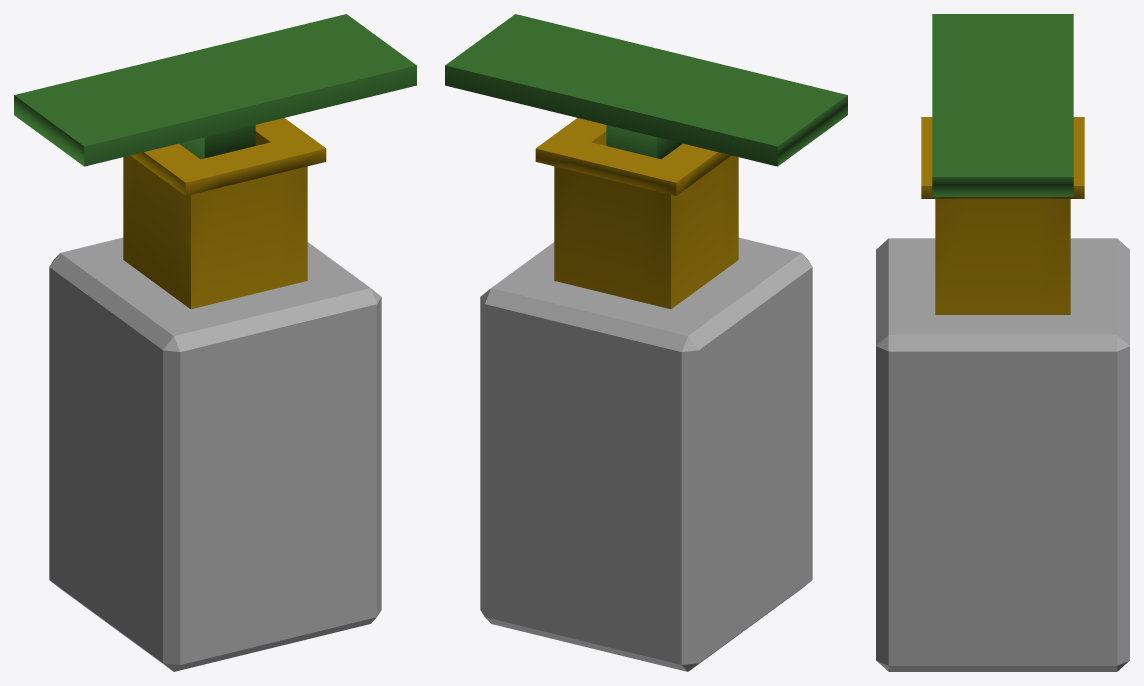
The model's file is character.fbx.
3 views of the same model, side by side, from view 1: azimuth 30°, elevation 25°; view 2: azimuth 150°, elevation 25°; view 3: azimuth 270°, elevation 25° (orthographic).
Parts seen in each view (by area): view 1: group2_pCube2; view 2: group2_pCube2; view 3: group2_pCube2.
Boxes of the visible parts, x1,y1,x2,y2 form: group2_pCube2: (14,14,416,671); group2_pCube2: (445,14,847,671); group2_pCube2: (876,14,1129,671).
Size of the model in its own units: 22.79 by 34.46 by 15.
